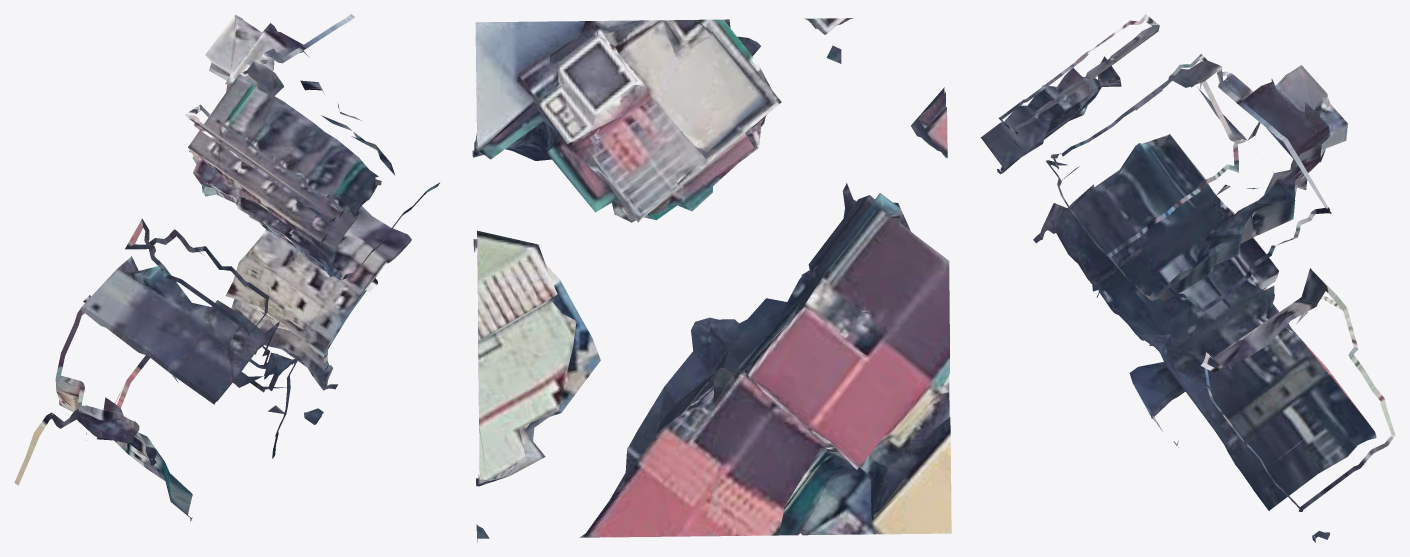
3 renders of one model, left to right at view 1: azimuth 30°, elevation 25°; view 2: azimuth 150°, elevation 25°; view 3: azimuth 270°, elevation 25°, orthographic. The views are drawn at different scales.
Bounding box in the file's own units: 42.25 × 42.79 × 36.87.
Materials: 2 (2 with a texture image).
